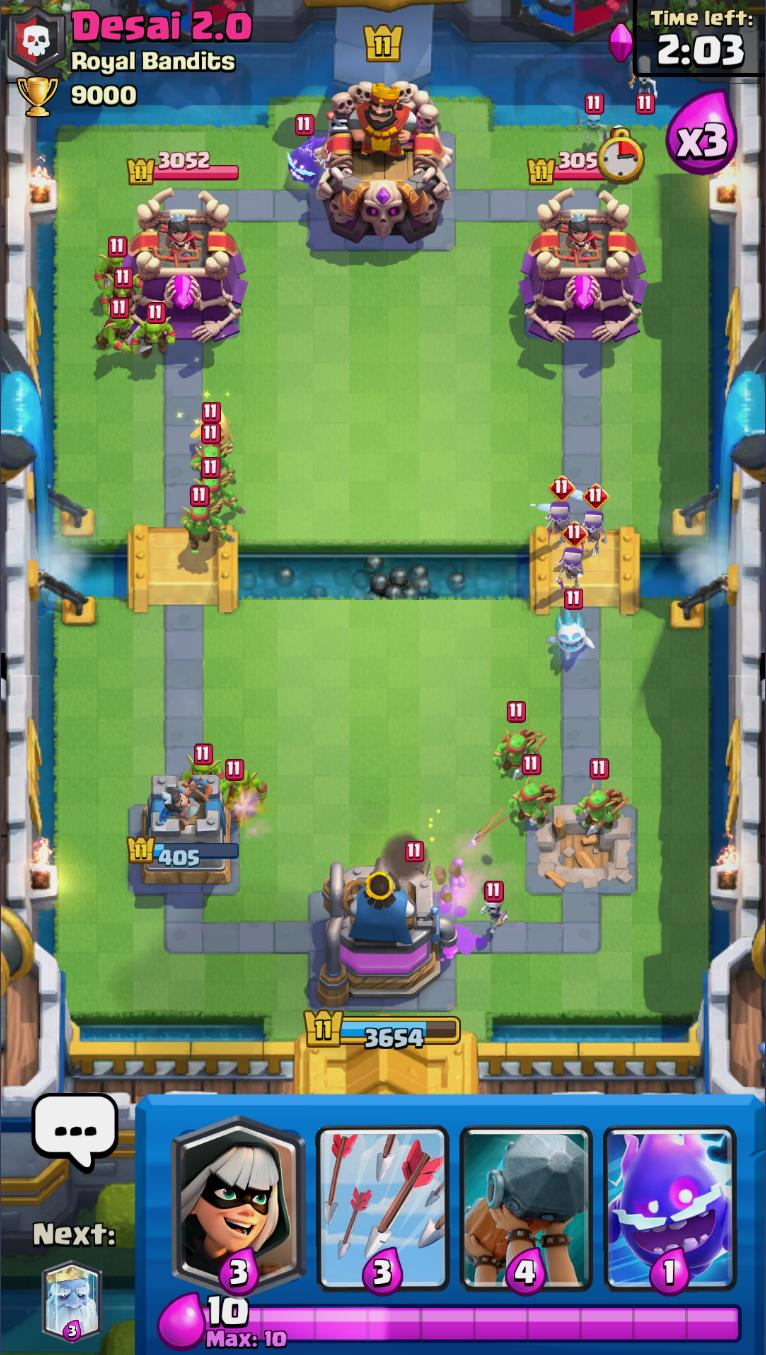ArrowDeck: (309, 1095, 458, 1296)
BanditDeck: (166, 1092, 313, 1295)
BattleRamDeck: (454, 1098, 600, 1294)
ElectroSpirit: (283, 115, 322, 190)
ElectroSpiritDeck: (595, 1095, 743, 1293)
Elixir: (202, 1296, 742, 1349)
EnemyTower: (122, 187, 250, 347), (520, 186, 648, 346)
EvoSkeleton: (579, 482, 610, 556), (555, 523, 587, 592), (545, 476, 576, 541)
Goblin: (218, 754, 268, 815), (130, 301, 175, 361), (93, 298, 137, 358), (93, 236, 136, 287), (102, 266, 145, 315), (183, 743, 224, 782)
HealSpirit: (189, 401, 236, 447)
IceSpirit: (548, 589, 597, 662)
KingTower: (315, 81, 455, 246)
MyKingHP: (301, 1007, 463, 1052)
MyKingTower: (302, 860, 461, 1009)
MyPrincessTower: (124, 776, 242, 889)
MyPrincessTowerBrocken: (522, 800, 643, 899)
MyPrincessTowerHP: (125, 836, 241, 869)
PrincessTower: (548, 210, 608, 267), (152, 213, 212, 268)
RoyaleGhostNext: (41, 1260, 103, 1344)
Skeleton: (624, 56, 662, 111), (574, 94, 612, 147), (478, 877, 512, 934)
SpearGoblin: (577, 760, 630, 837), (491, 705, 544, 781), (514, 753, 558, 831), (176, 486, 222, 558), (196, 457, 240, 518), (190, 425, 233, 475)
TowerPrincessHP: (524, 151, 641, 187), (128, 153, 242, 187)
